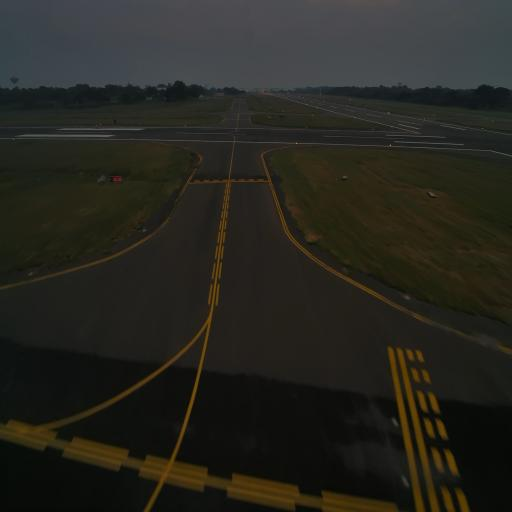off: (401, 472, 412, 490), (390, 412, 400, 430)
